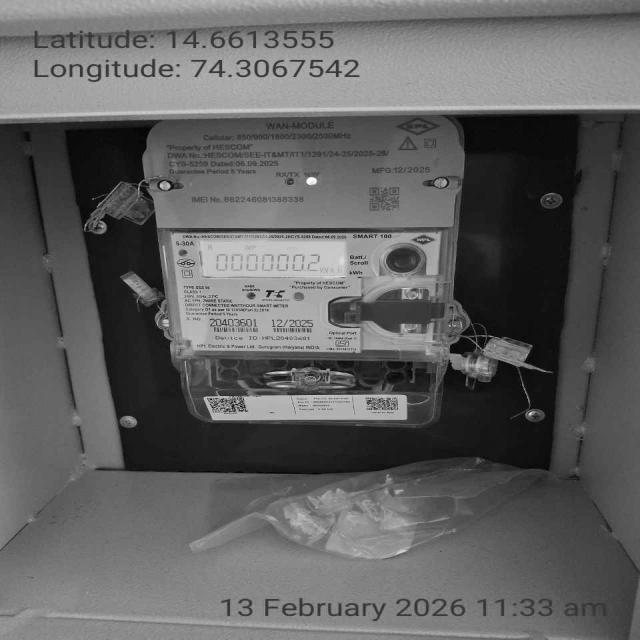meter: (151, 118, 458, 355)
